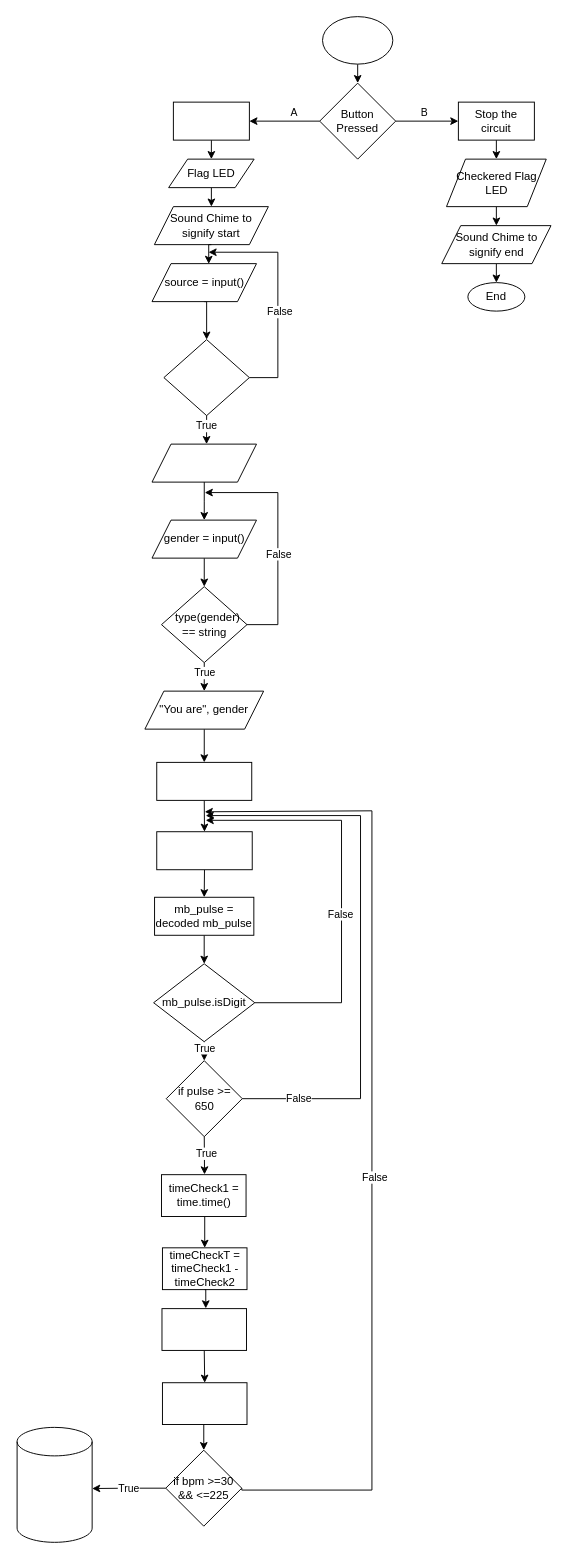
This 567x1559 diagram has some shape labels left out. The box of each missing label's shape, as (x1, y1, x2, y2) in pixels:
"Hello", source: (151, 443, 256, 482)
Begin the circuit: (172, 101, 249, 140)
bpm = timeCheckT * 60: (162, 1382, 247, 1425)
gender, source, bpm and mb_pulse sent to firebase: (16, 1426, 92, 1542)
mb_pulse = serial readline: (156, 831, 252, 870)
Start: (322, 16, 393, 64)
timeCheck2 = 0: (156, 761, 252, 800)
timeCheck2 = timeCheck1: (161, 1308, 247, 1350)
type(source) == string: (163, 339, 249, 416)
